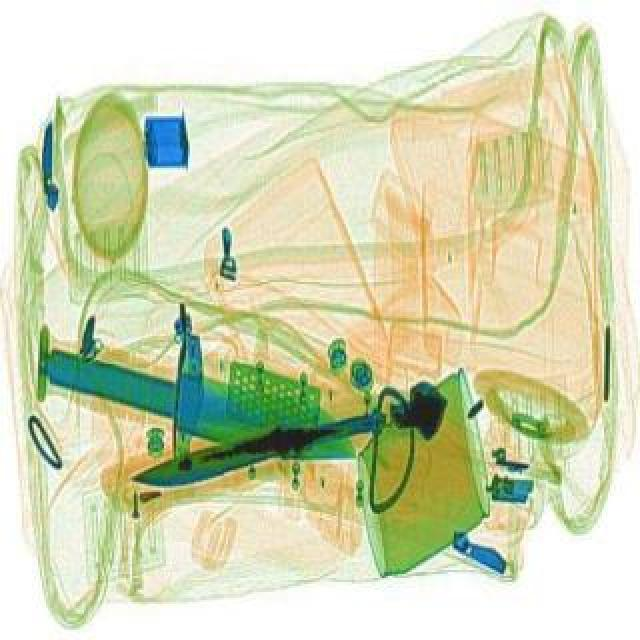knife: (34, 332, 366, 474), (128, 398, 390, 490)
